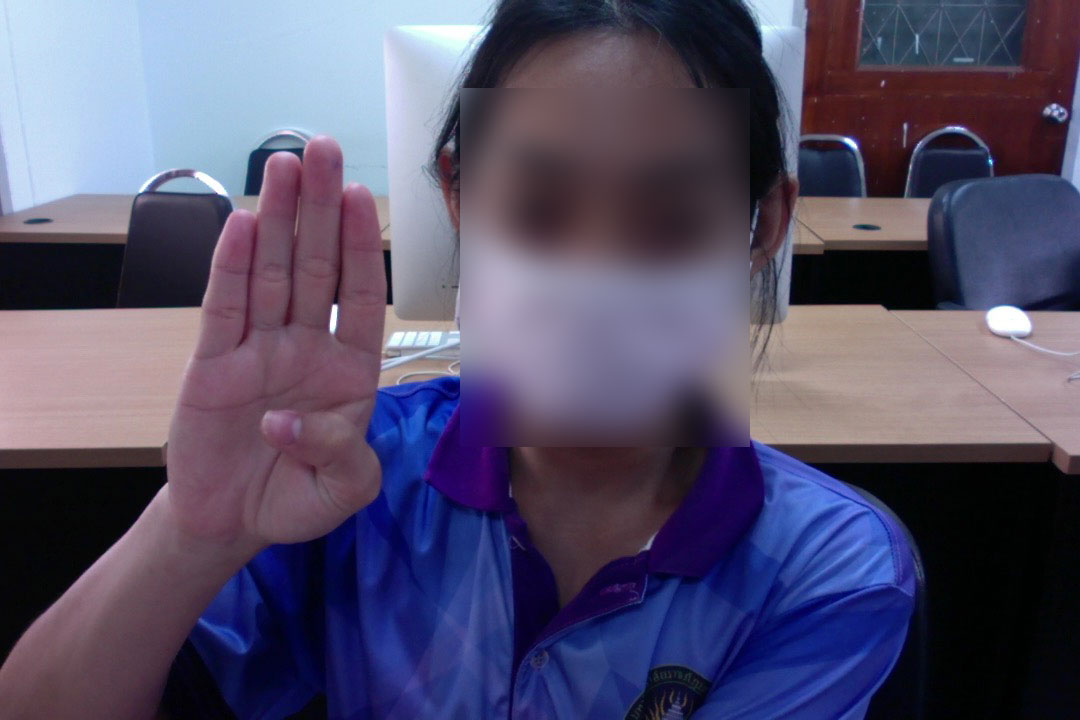bor: (155, 128, 394, 567)
